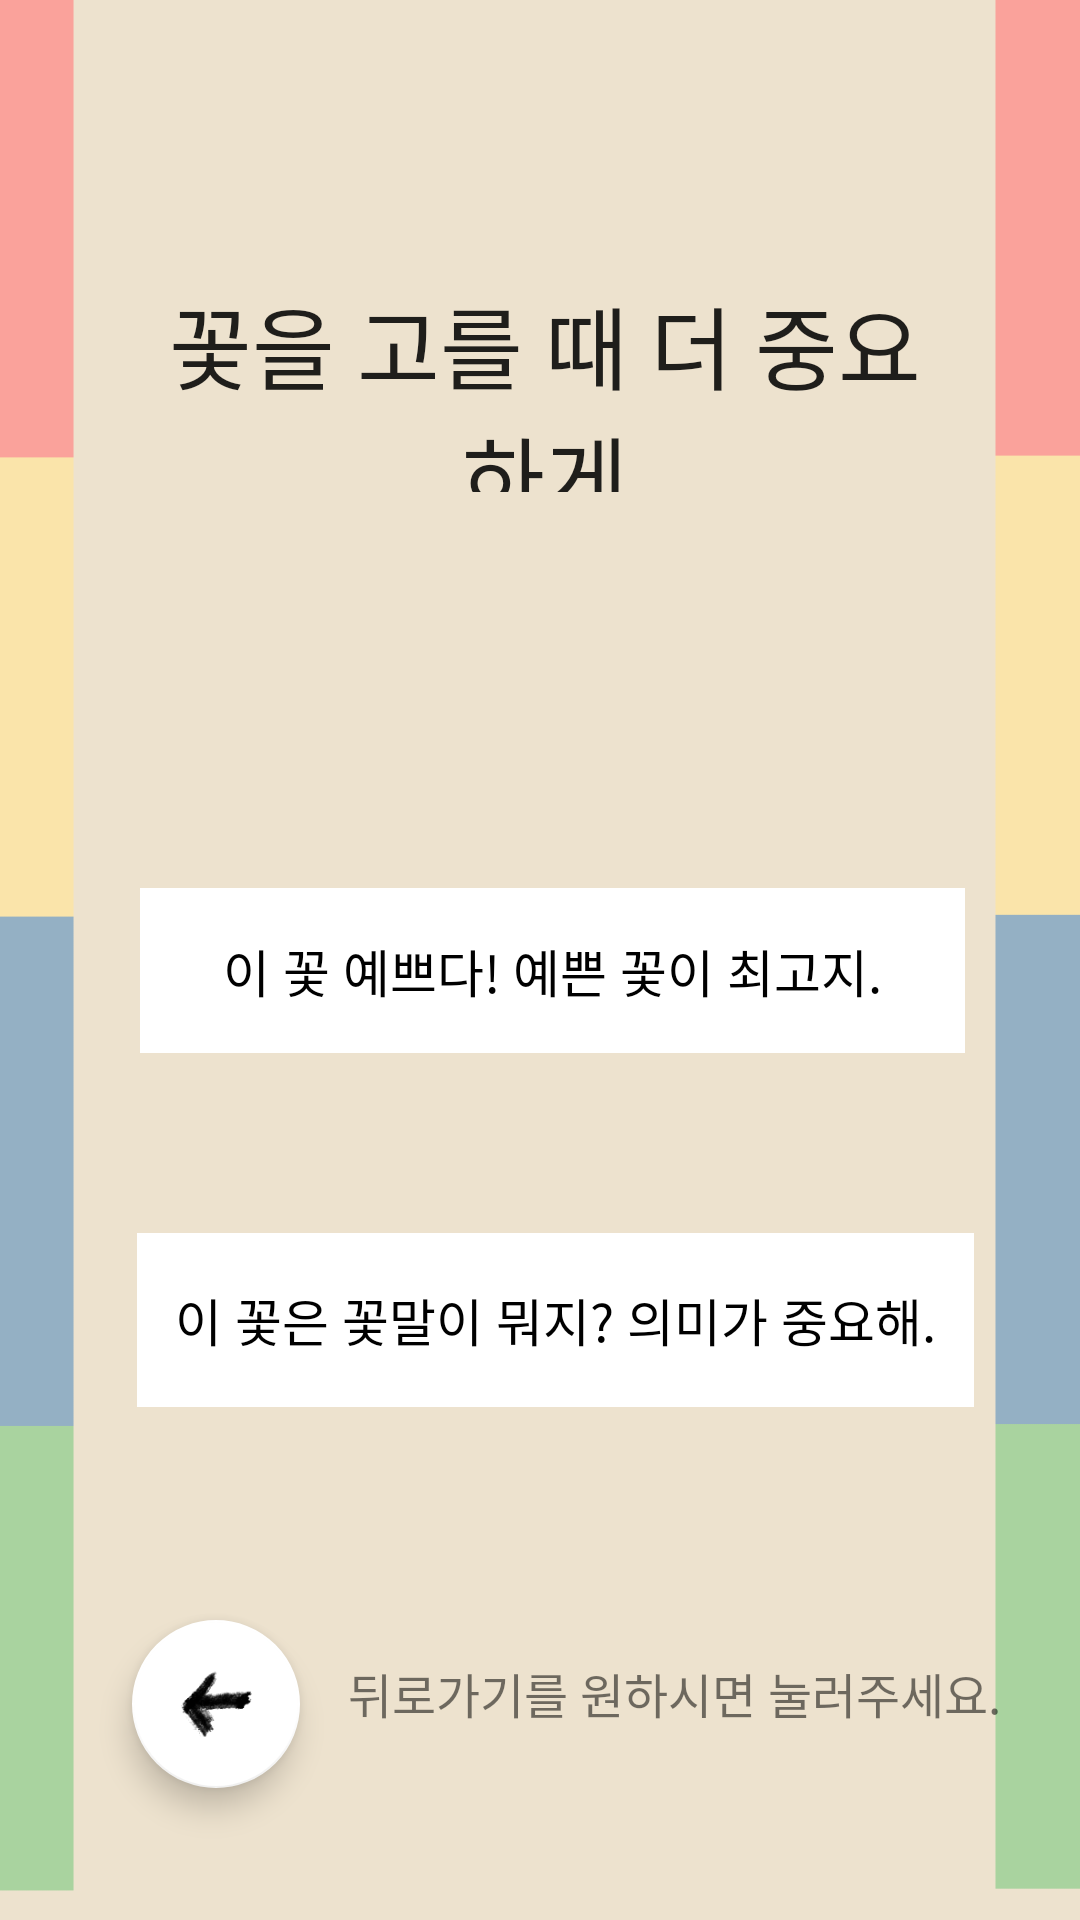

Icon click points for this 1080x1920 phone screenshot, format (x=x, y=y):
back: (x=216, y=1704)
